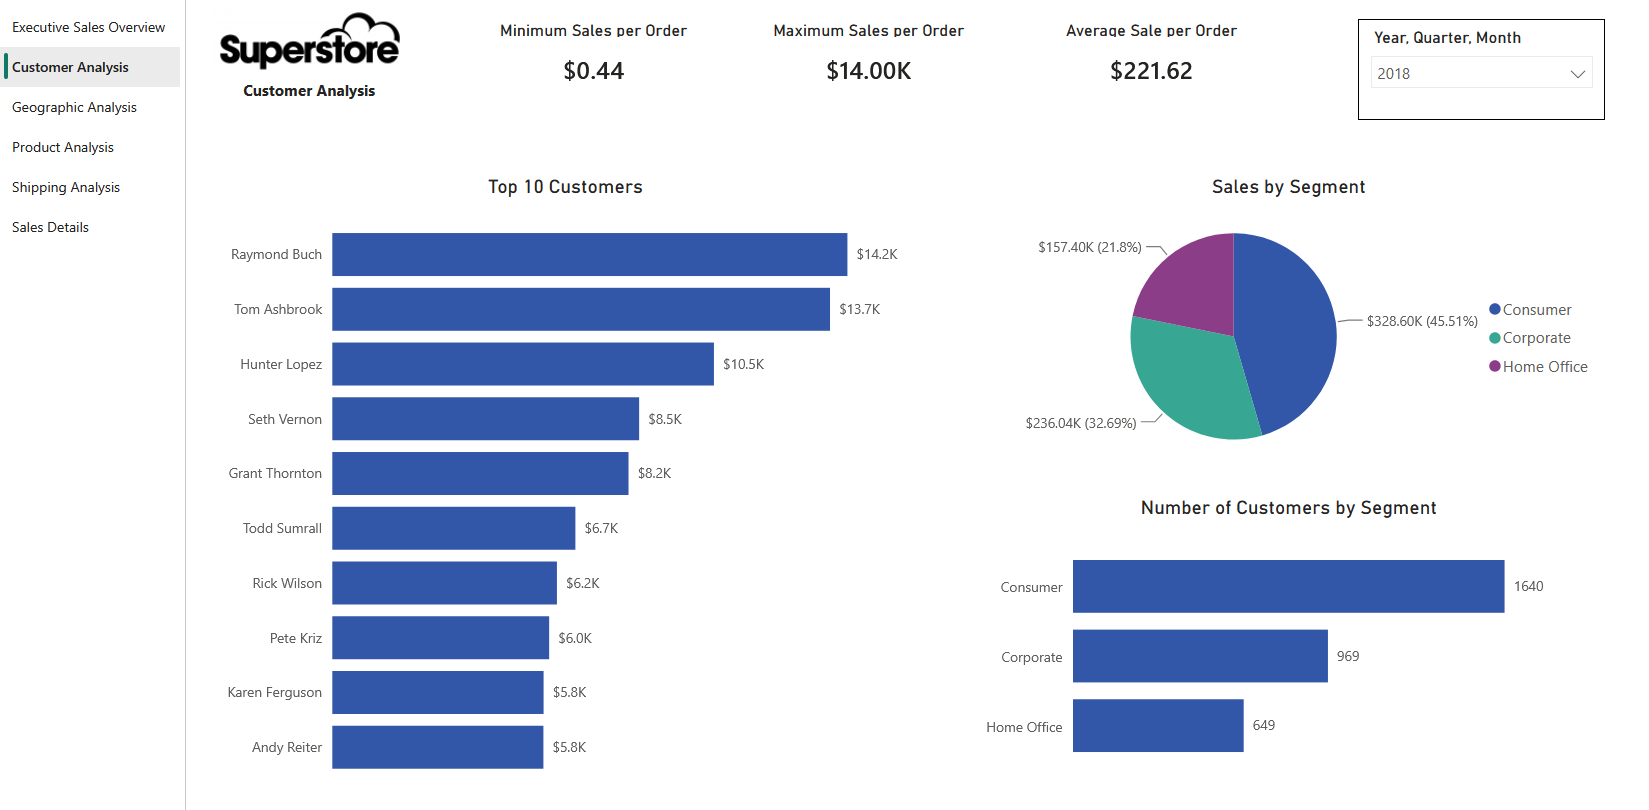

The page's visual inventory and layout, read from the dashboard file:
{"tool":"powerbi","page":{"name":"Customer Analysis","canvas":[1280,720],"ordinal":1},"visuals":[{"type":"image","box":[24,16,168,88],"z":0},{"type":"barChart","title":"Top 10 Customer","fields":{"Category":["Super Store Dataset.Customer Name"],"Y":["Sum(Super Store Dataset.Sales)"]},"box":[16,144,656,576],"z":1000},{"type":"pieChart","title":"Sales by Segment","fields":{"Category":["Super Store Dataset.Segment"],"Y":["Sum(Super Store Dataset.Sales)"]},"box":[688,136,504,288],"z":2000},{"type":"barChart","title":"Number of customers per Segment","fields":{"Category":["Super Store Dataset.Segment"],"Y":["CountNonNull(Super Store Dataset.Customer Name)"]},"box":[688,432,504,280],"z":3000},{"type":"cardVisual","title":"Average Sale per Order","fields":{"Data":["Avg(Super Store Dataset.Sales)"]},"box":[720,16,216,88],"z":4000},{"type":"cardVisual","title":"Max Sales per Order","fields":{"Data":["Max(Super Store Dataset.Sales)"]},"box":[488,16,216,88],"z":5000},{"type":"cardVisual","title":"Minimum Sales per Order","fields":{"Data":["Min(Super Store Dataset.Sales)"]},"box":[248,16,216,88],"z":6000},{"type":"slicer","title":"Filter by","fields":{"Values":["Super Store Dataset.Order Date Hierarchy.Year","Super Store Dataset.Order Date Hierarchy.Quarter","Super Store Dataset.Order Date Hierarchy.Month"]},"box":[976,16,216,88],"z":7000},{"type":"textbox","box":[0,96,192,32],"z":8000}]}

Visuals, with their boxes on the page's 1280x720 design canvas (x1, y1, x2, y2). These are canvas units, not pixel positions in the 1649x810 screenshot, which may show the page scaled, cropped or inside an application window:
image: [24,16,192,104]
"Top 10 Customer" barChart: [16,144,672,720]
"Sales by Segment" pieChart: [688,136,1192,424]
"Number of customers per Segment" barChart: [688,432,1192,712]
"Average Sale per Order" cardVisual: [720,16,936,104]
"Max Sales per Order" cardVisual: [488,16,704,104]
"Minimum Sales per Order" cardVisual: [248,16,464,104]
"Filter by" slicer: [976,16,1192,104]
textbox: [0,96,192,128]
